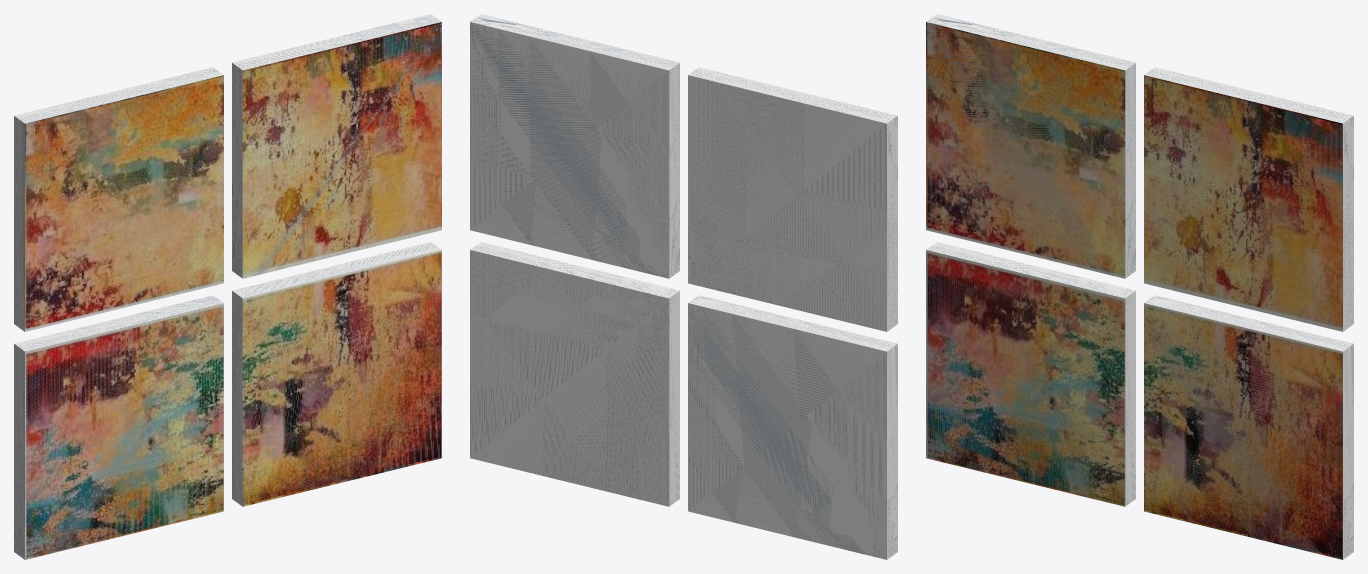
File: art6.dae
3 views of the same model, side by side, from view 1: azimuth 30°, elevation 25°; view 2: azimuth 150°, elevation 25°; view 3: azimuth 330°, elevation 25° (orthographic).
Parts seen in each view (by area): view 1: group_1 (×2), group_2 (×2), group_4 (×2), group_3 (×2); view 2: group_1, group_2, group_3, group_4; view 3: group_3 (×2), group_4 (×2), group_2 (×2), group_1 (×2).
Boxes of the visible parts, x1,y1,x2,y2 form: group_1 (×2): (232,14,441,278); group_2 (×2): (232,242,441,506); group_4 (×2): (14,295,223,559); group_3 (×2): (14,67,223,331); group_1: (470,14,679,278); group_2: (470,242,679,506); group_3: (688,67,897,331); group_4: (688,295,897,559); group_3 (×2): (926,14,1135,278); group_4 (×2): (926,242,1135,506); group_2 (×2): (1144,295,1353,559); group_1 (×2): (1144,67,1353,331).
Size of the model in its own units: 43.7 by 1.97 by 43.7.
3 materials, 1 textured.
